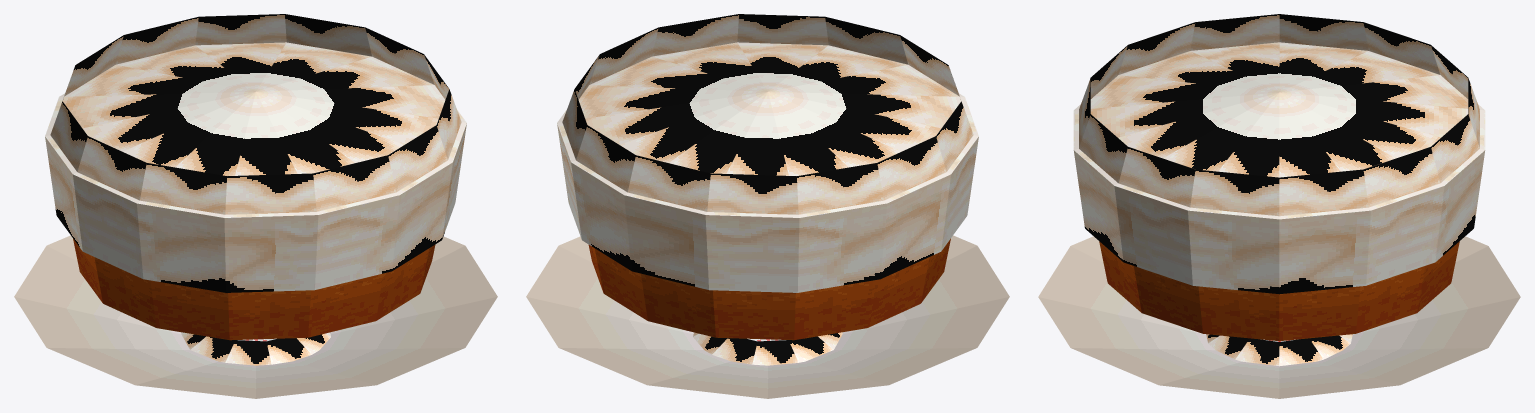
3 views of the same model, side by side, from view 1: azimuth 30°, elevation 25°; view 2: azimuth 150°, elevation 25°; view 3: azimuth 270°, elevation 25° (orthographic).
Parts seen in each view (by area): view 1: magiccake; view 2: magiccake; view 3: magiccake.
Boxes of the visible parts, x1=… form: magiccake: x1=14, y1=14, x2=497, y2=398; magiccake: x1=526, y1=14, x2=1009, y2=398; magiccake: x1=1038, y1=14, x2=1520, y2=398.
Size of the model in its own units: 0.9893 by 0.5852 by 0.9893.
Materials: 3 (3 with a texture image).
